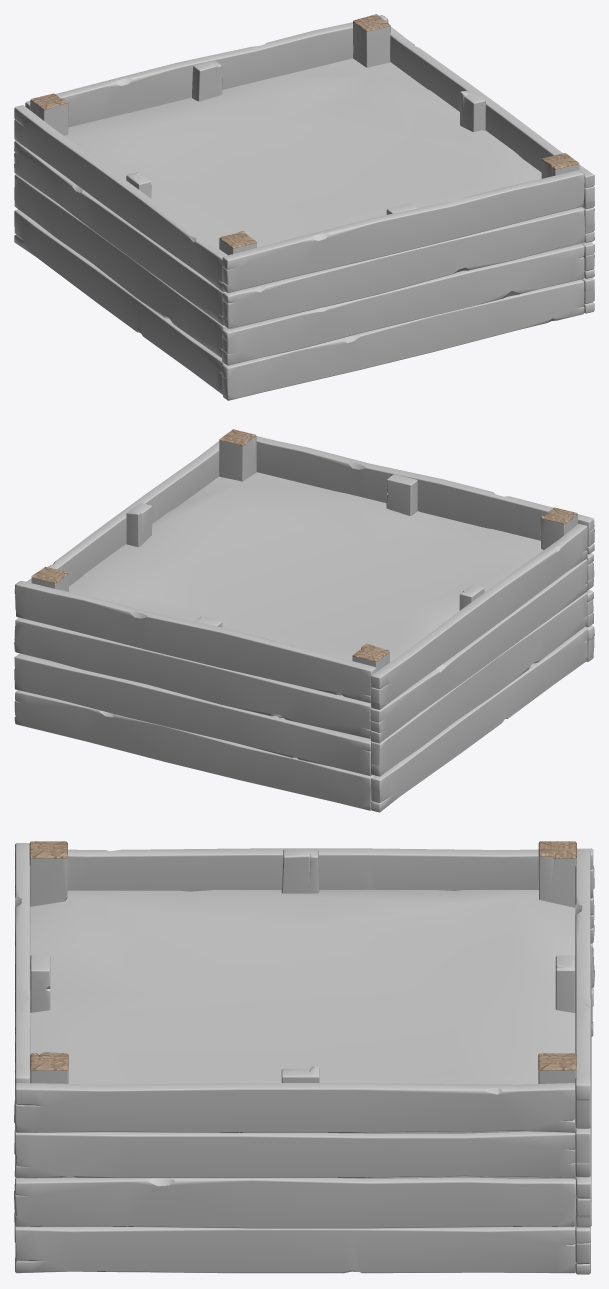
The picture shows the model from 3 angles, top to bottom: view 1: azimuth 30°, elevation 25°; view 2: azimuth 150°, elevation 25°; view 3: azimuth 270°, elevation 25°; orthographic projection. The views are drawn at different scales.
Visible parts, largest first — view 1: SM_Oak_Planter_01v1_LOD0; view 2: SM_Oak_Planter_01v1_LOD0; view 3: SM_Oak_Planter_01v1_LOD0.
Boxes of the visible parts, box(x1,y1,x2,y2) form: SM_Oak_Planter_01v1_LOD0: box(14, 14, 594, 400); SM_Oak_Planter_01v1_LOD0: box(14, 429, 594, 812); SM_Oak_Planter_01v1_LOD0: box(14, 841, 594, 1274).
Size of the model in its own units: 3.13 by 1.27 by 3.15.
